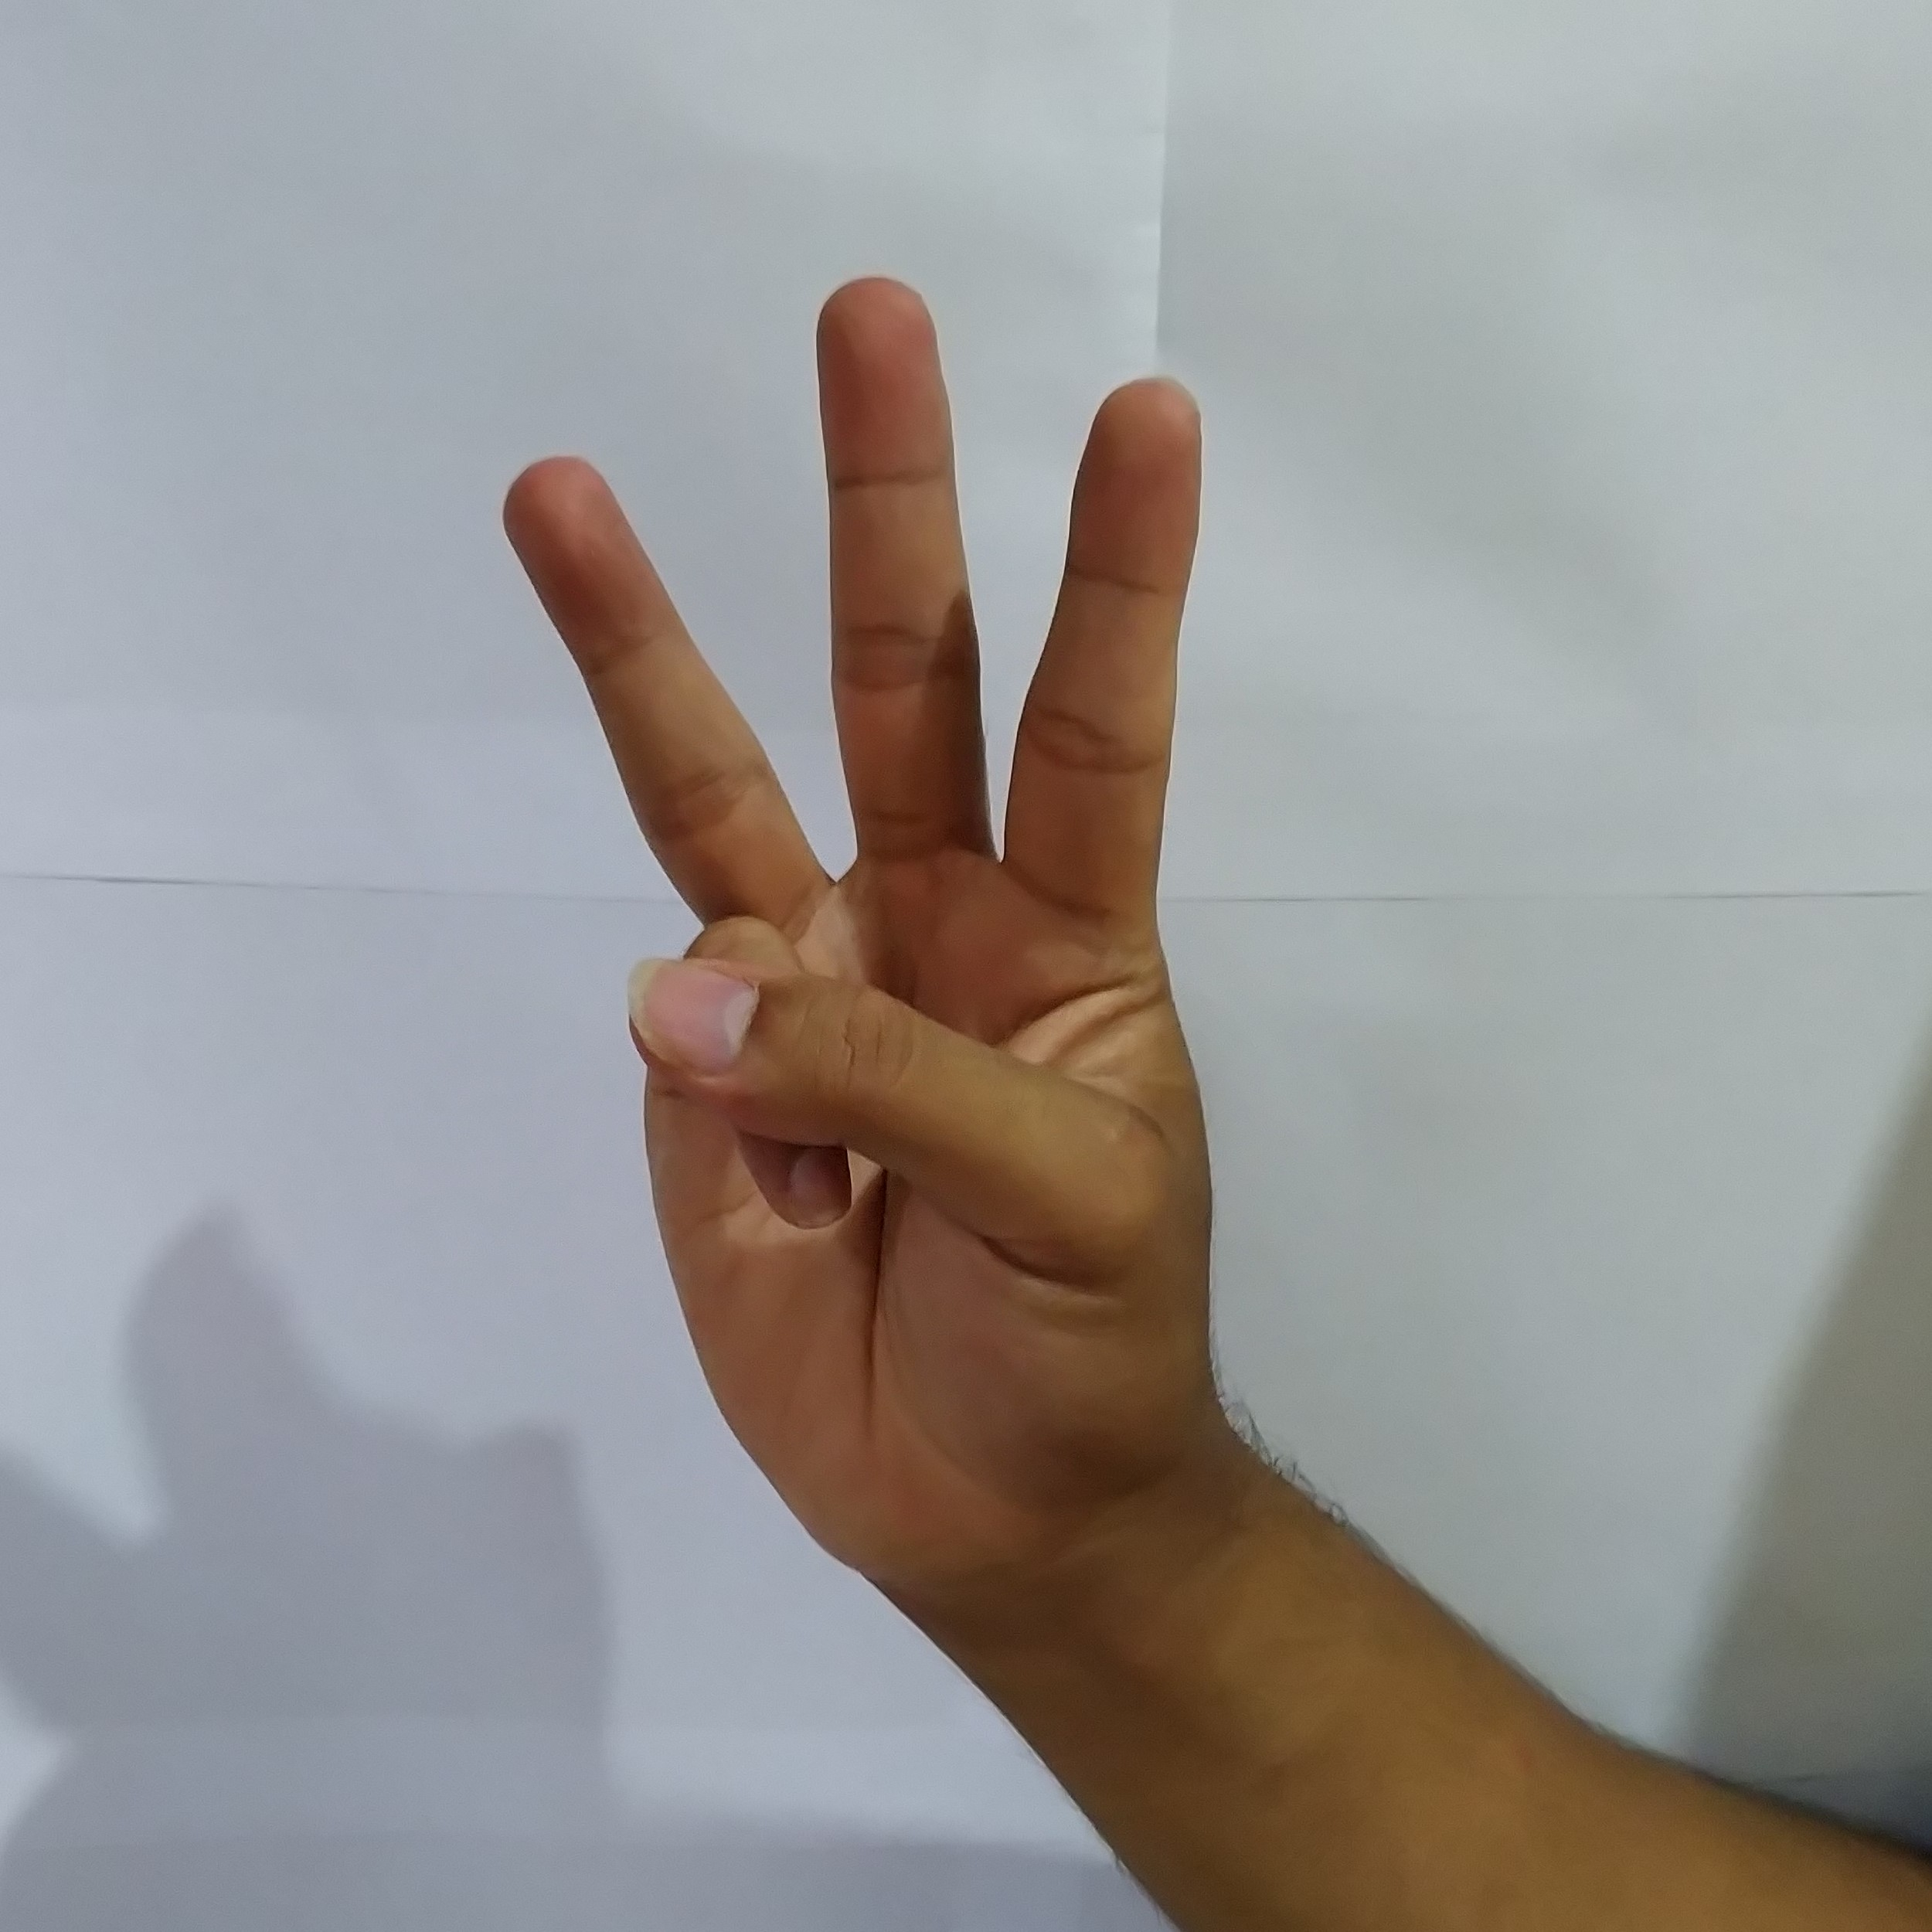W: (478, 253, 1376, 1553)
